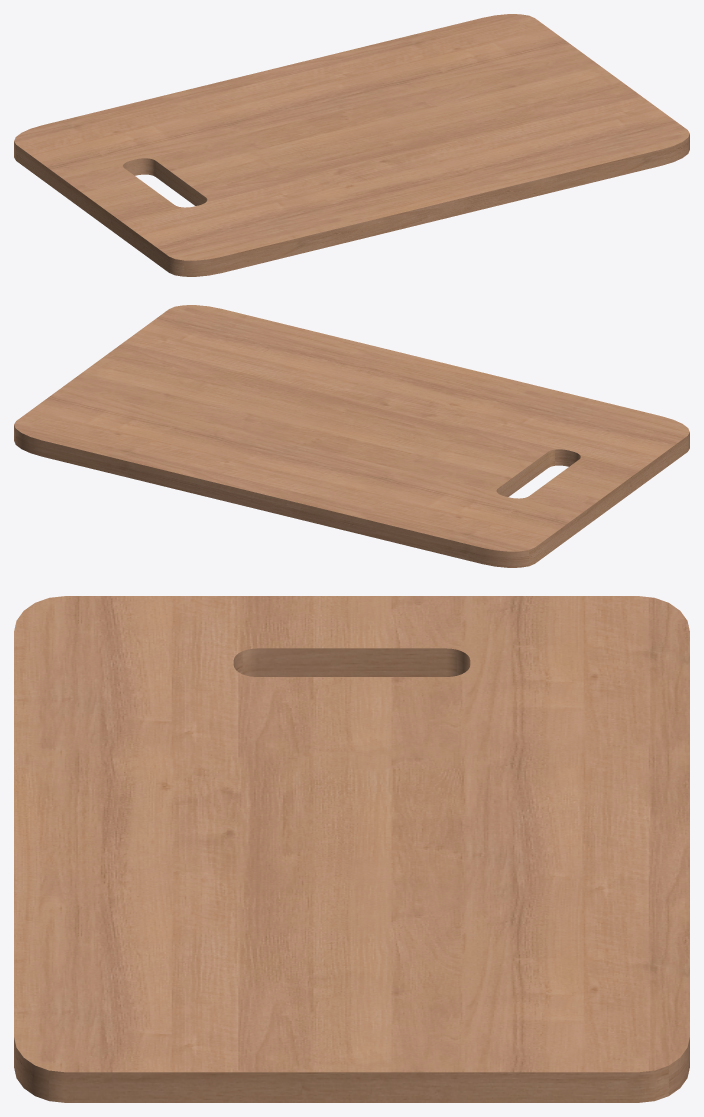
Rendered from board.glb.
3 views of the same model, one above another, from view 1: azimuth 30°, elevation 25°; view 2: azimuth 150°, elevation 25°; view 3: azimuth 270°, elevation 25° (orthographic). The views are drawn at different scales.
Visible parts, largest first — view 1: board; view 2: board; view 3: board.
Boxes of the visible parts, left/top/right/bottom form: board: left=14, top=14, right=689, bottom=276; board: left=14, top=305, right=689, bottom=567; board: left=14, top=596, right=689, bottom=1102.
Size of the model in its own units: 0.5 by 0.015 by 0.3.
1 material, 1 textured.
